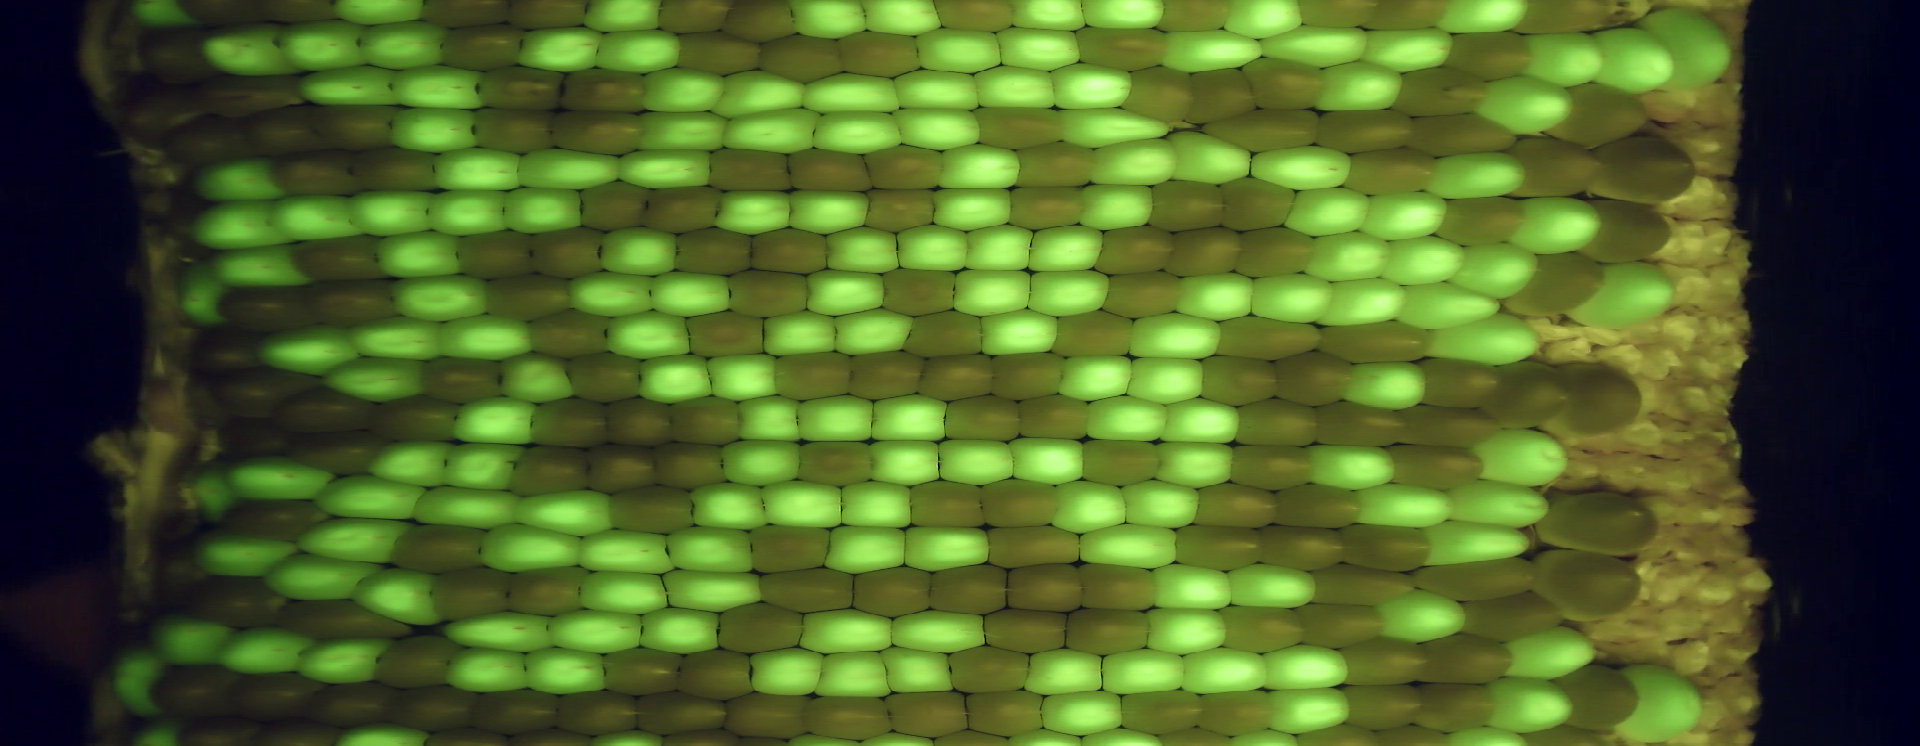fluorescent: (1562, 258, 1685, 333), (1633, 4, 1735, 91), (1608, 659, 1707, 746), (1581, 20, 1678, 99), (260, 551, 394, 608), (1467, 423, 1575, 492), (290, 514, 425, 570), (1419, 311, 1548, 369), (192, 17, 305, 82), (344, 562, 448, 632), (186, 524, 310, 581), (1495, 621, 1604, 684), (1476, 673, 1582, 736), (1304, 54, 1411, 118), (218, 451, 342, 505), (1505, 194, 1607, 258), (1469, 73, 1575, 136), (1390, 279, 1509, 334), (250, 318, 365, 375), (309, 472, 429, 526), (475, 519, 589, 576), (408, 479, 530, 530), (1242, 141, 1360, 194), (1444, 241, 1545, 303), (187, 196, 295, 254), (287, 635, 402, 688), (384, 271, 496, 326), (207, 624, 321, 677), (440, 608, 563, 657), (1369, 586, 1469, 646), (433, 309, 540, 365), (1414, 518, 1531, 570), (1439, 479, 1555, 530), (1420, 149, 1531, 203), (318, 353, 431, 405), (656, 565, 769, 617), (146, 609, 242, 670), (1343, 480, 1460, 530), (1353, 187, 1458, 243), (508, 20, 611, 76), (1157, 24, 1270, 76), (1157, 129, 1258, 186), (507, 485, 616, 538), (269, 20, 373, 75), (386, 59, 487, 115), (104, 639, 171, 724), (662, 521, 759, 579), (512, 146, 624, 196), (1280, 183, 1375, 241), (709, 69, 811, 124), (1076, 390, 1178, 445), (1255, 642, 1354, 698), (203, 243, 317, 292), (1176, 643, 1272, 701), (1053, 104, 1176, 149), (885, 606, 996, 657), (418, 183, 516, 239), (800, 261, 891, 321), (189, 154, 290, 208), (545, 605, 647, 659), (1299, 440, 1401, 494), (1518, 28, 1608, 89), (293, 59, 402, 109), (1071, 521, 1183, 570), (1261, 679, 1358, 735), (1243, 271, 1340, 327), (1254, 23, 1374, 69), (1086, 135, 1184, 190), (1297, 228, 1395, 283), (384, 105, 484, 159), (355, 17, 452, 72), (364, 229, 467, 281), (573, 568, 678, 619), (718, 107, 825, 156), (1096, 644, 1191, 699), (1338, 359, 1434, 414), (1002, 432, 1091, 491), (1116, 475, 1209, 532), (362, 437, 456, 494), (264, 192, 369, 243), (1125, 310, 1224, 363), (1379, 232, 1469, 289), (899, 521, 996, 575), (1313, 277, 1409, 331), (989, 22, 1087, 75), (343, 314, 448, 363), (1142, 601, 1232, 659), (1022, 265, 1116, 320), (576, 527, 677, 577), (599, 311, 696, 364), (911, 23, 1005, 77), (931, 138, 1025, 192), (1354, 24, 1455, 75), (595, 222, 681, 281), (564, 267, 662, 318), (518, 643, 611, 697), (867, 392, 954, 450), (1047, 59, 1138, 114), (976, 304, 1064, 360), (636, 65, 730, 118), (448, 394, 540, 448), (686, 478, 771, 535), (340, 187, 436, 239), (970, 62, 1063, 115), (782, 185, 876, 238), (1048, 478, 1131, 537), (440, 439, 528, 494), (441, 646, 538, 696), (715, 437, 809, 489), (798, 69, 902, 115), (1120, 355, 1212, 408), (891, 220, 977, 277), (1022, 220, 1108, 277), (945, 267, 1035, 321), (587, 28, 684, 77), (798, 608, 896, 657), (631, 110, 733, 157), (756, 478, 846, 530), (1018, 647, 1108, 699), (495, 349, 579, 405), (636, 604, 724, 658), (793, 391, 879, 446), (746, 644, 831, 699), (822, 522, 909, 576), (808, 109, 906, 157), (647, 269, 737, 321), (634, 352, 719, 407), (829, 306, 915, 360), (811, 648, 894, 703), (711, 185, 798, 238), (1149, 560, 1236, 612), (429, 147, 524, 195), (887, 107, 984, 153), (877, 644, 961, 698), (1037, 688, 1128, 739), (933, 436, 1019, 489), (890, 67, 984, 115), (929, 185, 1022, 233), (1150, 439, 1238, 489), (959, 219, 1037, 276), (170, 263, 235, 331), (758, 307, 840, 360), (702, 349, 784, 402), (838, 479, 917, 533), (1075, 180, 1158, 232), (822, 223, 905, 274), (500, 186, 587, 235), (863, 437, 945, 489), (1173, 269, 1259, 318), (1058, 350, 1134, 405), (613, 149, 715, 190), (1434, 1, 1537, 40), (781, 1, 872, 43), (1218, 1, 1308, 43), (733, 392, 804, 443), (182, 457, 238, 521), (857, 1, 947, 39), (1003, 1, 1091, 36), (324, 1, 427, 29), (579, 1, 662, 36), (1078, 1, 1171, 32), (1442, 722, 1540, 746), (127, 1, 204, 32)
nonfluorescent: (1528, 544, 1648, 628), (1537, 481, 1665, 560), (1584, 130, 1703, 209), (1545, 356, 1651, 439), (1498, 249, 1607, 320), (271, 594, 418, 647), (1536, 83, 1656, 147), (1406, 552, 1545, 606), (1502, 132, 1605, 205), (206, 363, 324, 425), (1476, 356, 1575, 429), (1575, 200, 1678, 268), (1198, 100, 1322, 157), (1401, 108, 1520, 165), (1551, 661, 1641, 737), (182, 570, 288, 633), (1315, 316, 1435, 371), (144, 660, 247, 724), (222, 669, 329, 728), (208, 282, 323, 336), (1413, 633, 1520, 691), (214, 494, 333, 545), (1335, 142, 1442, 198), (1389, 402, 1509, 452), (387, 521, 493, 577), (1292, 598, 1393, 657), (118, 87, 213, 149), (1386, 62, 1489, 120), (1337, 633, 1438, 692), (298, 276, 407, 330), (1382, 439, 1489, 494), (1226, 394, 1327, 452), (1212, 312, 1329, 363), (1240, 50, 1329, 116), (980, 521, 1087, 575), (1433, 189, 1529, 249), (1411, 354, 1509, 413), (1307, 104, 1416, 157), (132, 24, 220, 89), (1213, 601, 1313, 659), (1456, 589, 1566, 641), (1438, 27, 1536, 85), (422, 562, 514, 624), (367, 630, 463, 688), (298, 675, 402, 729), (756, 565, 864, 616), (389, 677, 491, 733), (1168, 519, 1270, 575), (276, 429, 387, 479), (713, 599, 812, 655), (847, 561, 938, 622), (162, 113, 256, 171), (1191, 349, 1286, 408), (1307, 559, 1417, 609), (545, 107, 649, 159), (1248, 522, 1352, 575), (756, 28, 845, 89), (522, 306, 615, 365), (722, 265, 816, 323), (266, 385, 376, 434), (1335, 521, 1441, 571), (1414, 677, 1501, 739), (1071, 24, 1174, 76), (797, 692, 900, 744), (1307, 399, 1412, 450), (305, 99, 403, 153), (478, 271, 576, 325), (959, 684, 1054, 739), (1229, 222, 1319, 281), (1271, 348, 1357, 409), (744, 519, 838, 576), (923, 561, 1014, 619), (1073, 559, 1163, 616), (1113, 685, 1210, 739), (240, 100, 332, 157), (465, 686, 566, 737), (1271, 481, 1369, 534), (1060, 604, 1156, 658), (1044, 307, 1138, 363), (841, 347, 932, 403), (975, 475, 1065, 532), (970, 103, 1071, 153), (672, 27, 771, 78), (284, 235, 388, 284), (563, 348, 647, 409), (502, 562, 587, 622), (836, 29, 928, 85), (1183, 480, 1283, 530), (602, 481, 700, 533), (525, 393, 615, 450), (200, 71, 305, 119), (473, 62, 566, 116), (418, 352, 511, 405), (673, 646, 757, 706), (943, 642, 1033, 697), (876, 687, 975, 737), (438, 20, 527, 76), (672, 222, 757, 281), (704, 145, 798, 197), (977, 605, 1071, 658), (1224, 439, 1316, 492), (746, 222, 831, 279), (1333, 679, 1427, 731), (1093, 223, 1180, 279), (1078, 436, 1168, 490), (790, 435, 880, 489), (904, 478, 992, 533), (552, 688, 644, 741), (629, 688, 736, 734), (1162, 223, 1245, 281), (504, 443, 591, 499), (467, 104, 560, 156), (785, 145, 876, 197), (598, 646, 688, 698), (901, 309, 989, 363), (936, 393, 1024, 447), (456, 225, 538, 283), (372, 392, 462, 445), (639, 181, 722, 238), (1004, 560, 1087, 616), (1183, 62, 1255, 127), (1098, 269, 1185, 323), (680, 307, 770, 359), (876, 265, 960, 320), (585, 439, 662, 499), (653, 437, 735, 494), (662, 393, 744, 450), (1119, 65, 1198, 124), (988, 349, 1073, 403), (529, 225, 606, 284), (915, 349, 1000, 402), (1193, 686, 1278, 739), (771, 349, 855, 403), (863, 143, 951, 194), (1513, 1, 1622, 42), (560, 65, 649, 114), (1005, 183, 1092, 233), (1009, 140, 1097, 189), (182, 323, 264, 375), (855, 184, 938, 234), (156, 191, 217, 258), (576, 178, 650, 233), (602, 394, 675, 450), (149, 546, 211, 611), (1013, 391, 1090, 442), (212, 412, 291, 461), (716, 1, 800, 44), (1149, 1, 1234, 39), (648, 1, 733, 39), (148, 510, 214, 559), (1356, 1, 1450, 36), (173, 1, 277, 32), (411, 1, 519, 31), (926, 1, 1018, 36), (502, 1, 594, 33), (1291, 1, 1380, 32), (255, 1, 338, 31)
